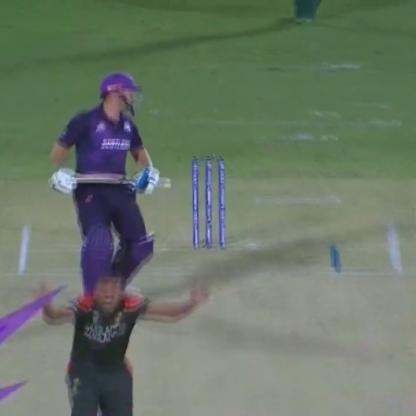bat: (51, 164, 171, 194)
pitch: (0, 220, 414, 416)
